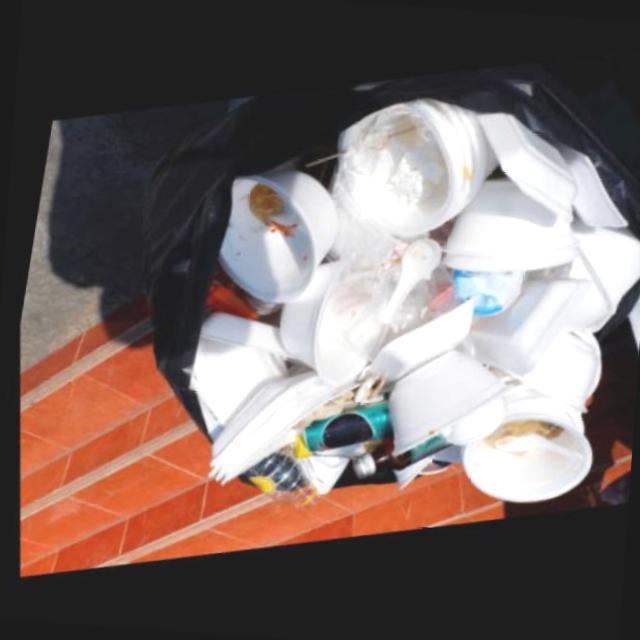chai_nhua_pet: (234, 446, 314, 511)
nhom: (299, 406, 389, 454)
xop: (324, 97, 489, 240), (204, 372, 358, 488), (209, 171, 327, 305), (455, 393, 590, 508), (184, 312, 292, 442), (384, 352, 504, 459), (434, 181, 569, 276), (459, 278, 582, 379), (273, 260, 361, 387), (466, 116, 568, 224), (362, 299, 473, 386), (561, 215, 640, 315), (506, 335, 595, 417), (547, 147, 618, 232)
